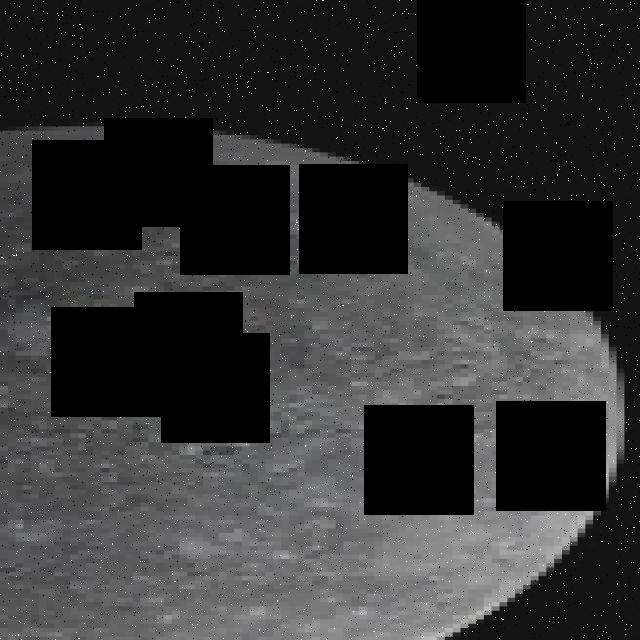Mercury: (0, 121, 632, 640)
